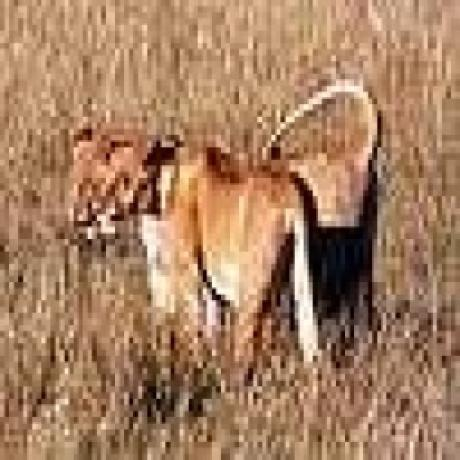Lion: (74, 101, 382, 370)
